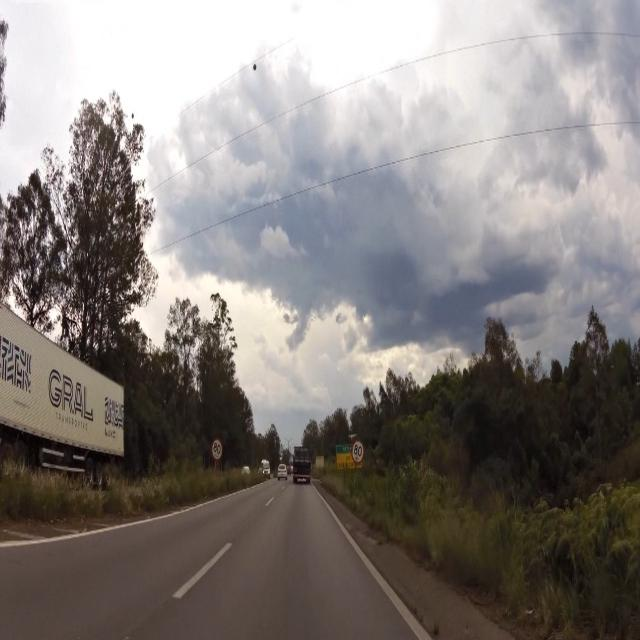R-19: (352, 438, 363, 464), (212, 437, 221, 462)
